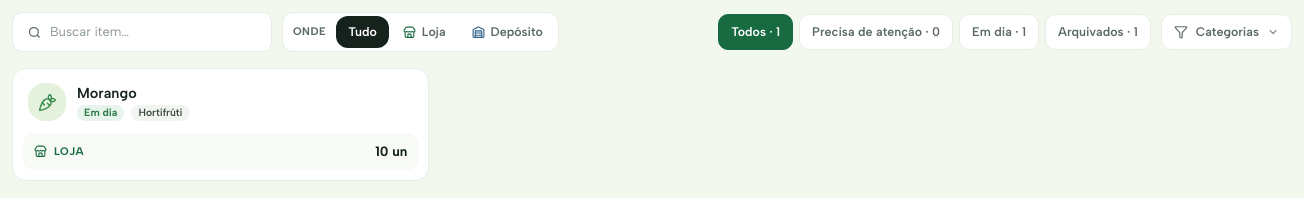
Test: EstoqueClient › shows only archived items when the Arquivados chip is selected
The width and height of the screenshot is (1304, 198).
Click the button "Arquivados · 1" at (1098,32), box [1045,14,1151,50]
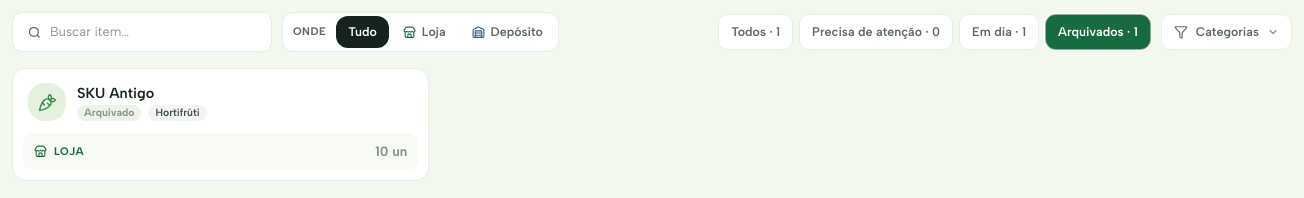
Expected: the text "SKU Antigo" is shown, [77,84,154,102]
Expected: the text "Morango" is gone
